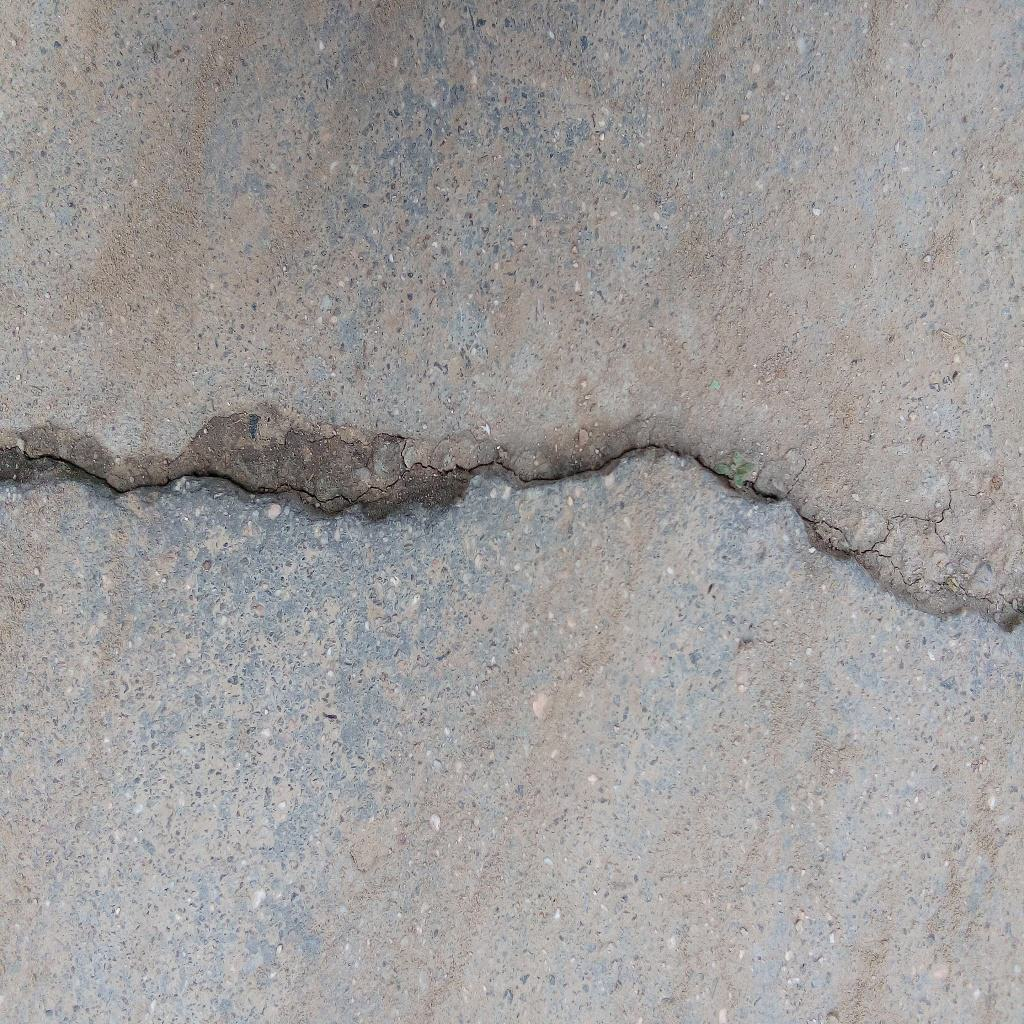Crack: (1, 407, 1024, 634)
